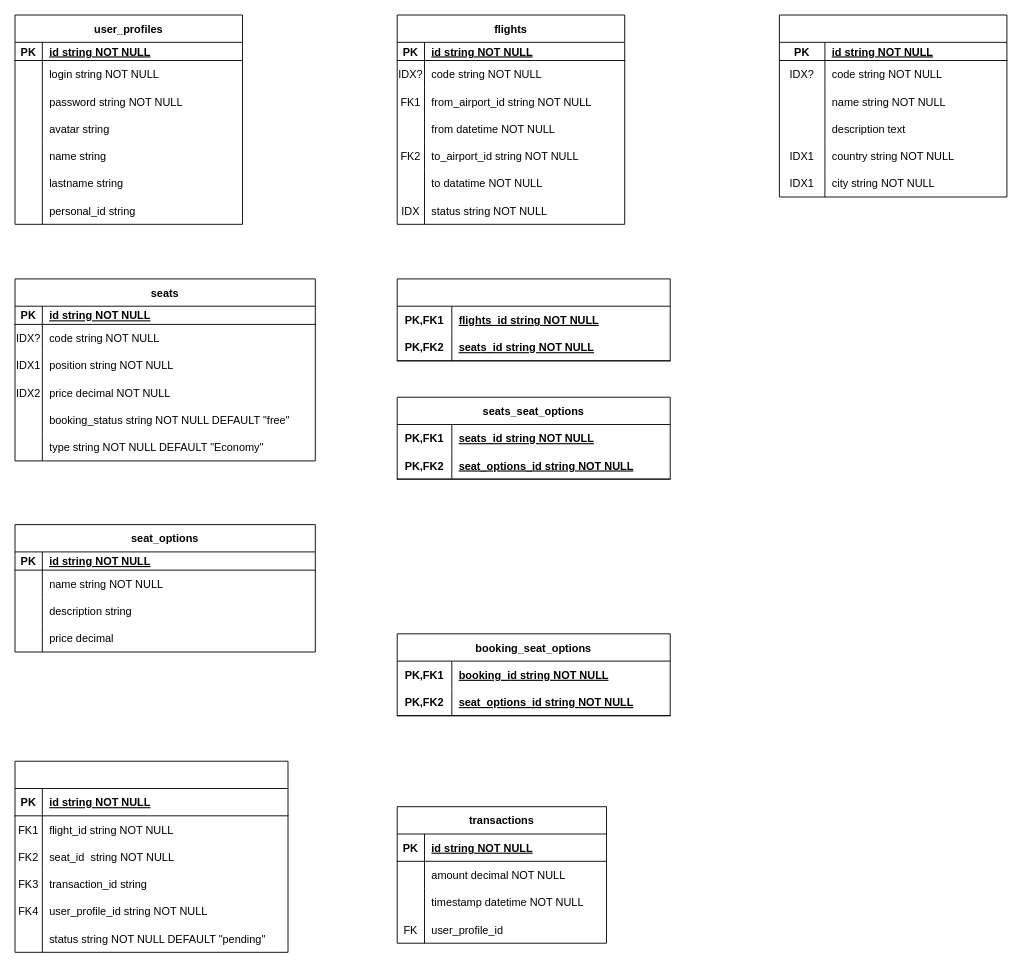
The diagram is 1022 pixels wide and 967 high, and some of its shapes have lost their labels. The box of each missing label's shape, as (x1, y1, x2, y2) in pixels:
airports: (779, 14, 1007, 197)
booking: (14, 760, 288, 952)
fligts_seats: (396, 278, 670, 361)
